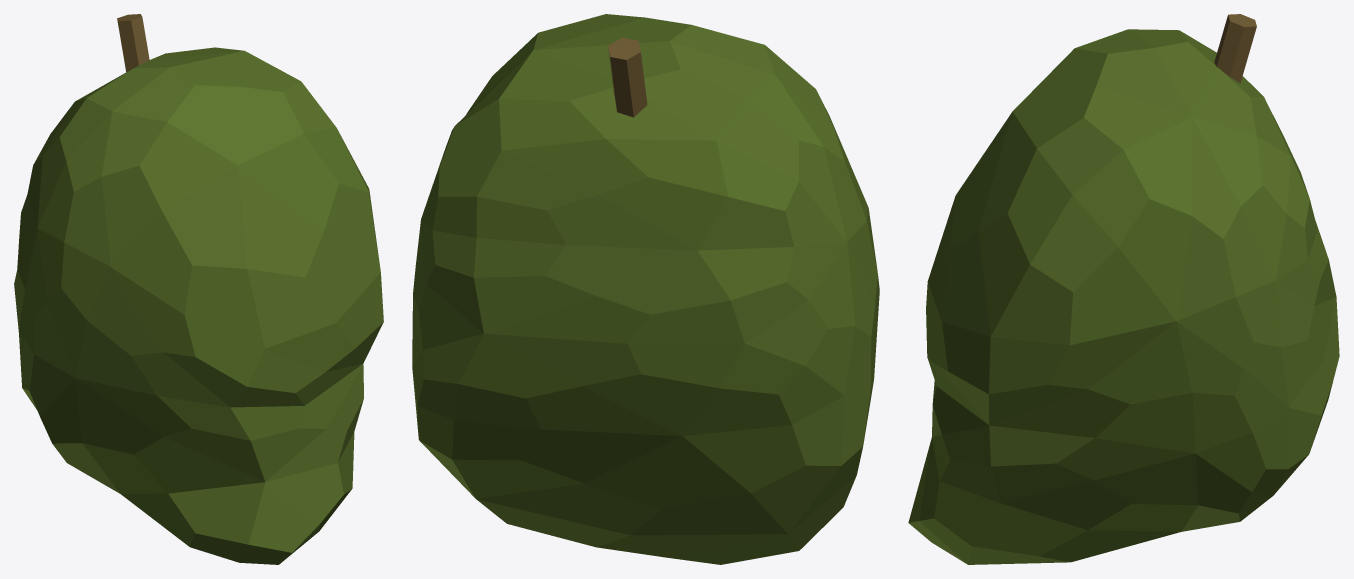
File: Mangga.fbx
3 renders of one model, left to right at view 1: azimuth 30°, elevation 25°; view 2: azimuth 150°, elevation 25°; view 3: azimuth 270°, elevation 25°, orthographic. The views are drawn at different scales.
Visible parts, largest first — view 1: Cube, Cylinder; view 2: Cube, Cylinder; view 3: Cube, Cylinder.
Boxes of the visible parts, x1=… form: Cube: x1=14, y1=47, x2=383, y2=564; Cylinder: x1=117, y1=14, x2=149, y2=72; Cube: x1=412, y1=14, x2=879, y2=564; Cylinder: x1=608, y1=37, x2=647, y2=117; Cube: x1=908, y1=29, x2=1339, y2=564; Cylinder: x1=1214, y1=14, x2=1256, y2=82.
Size of the model in its own units: 157 by 217 by 163.
